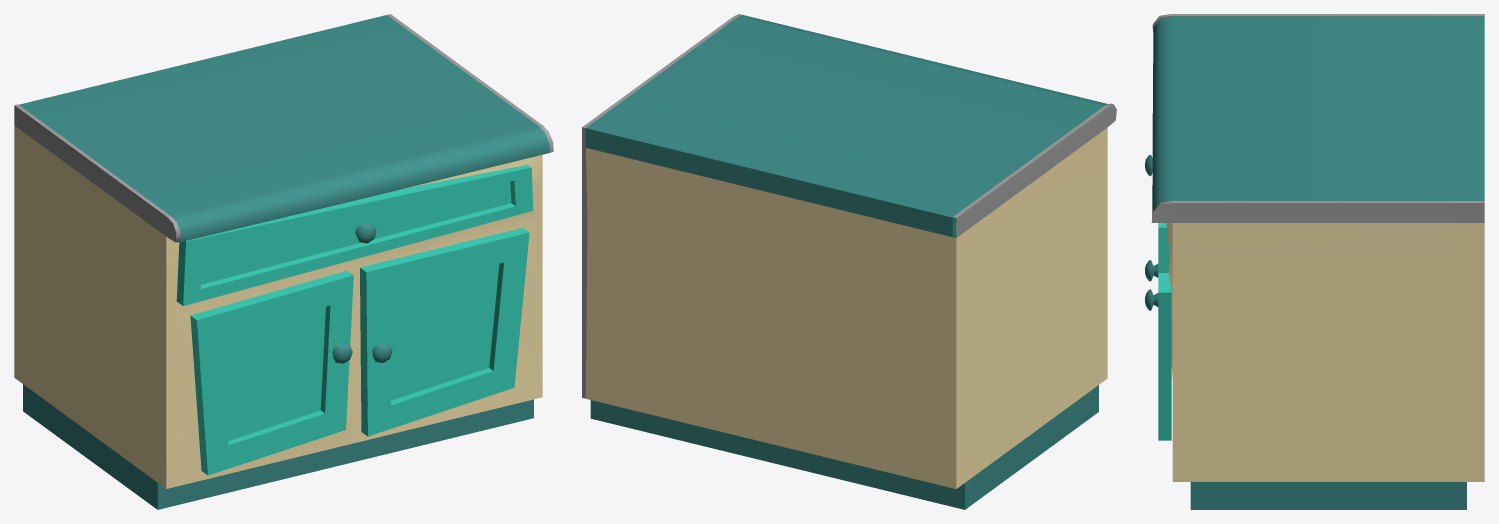
Rendered from WorkTable.fbx.
3 renders of one model, left to right at view 1: azimuth 30°, elevation 25°; view 2: azimuth 150°, elevation 25°; view 3: azimuth 270°, elevation 25°, orthographic. The views are drawn at different scales.
Visible parts, largest first — view 1: Cube.001; view 2: Cube.001; view 3: Cube.001.
Part boxes in pixels (x1,y1,x2,y2): Cube.001: (14,14,553,509); Cube.001: (582,14,1116,509); Cube.001: (1145,14,1484,509).
Bounding box in the file's own units: 100 × 76.13 × 76.23.
